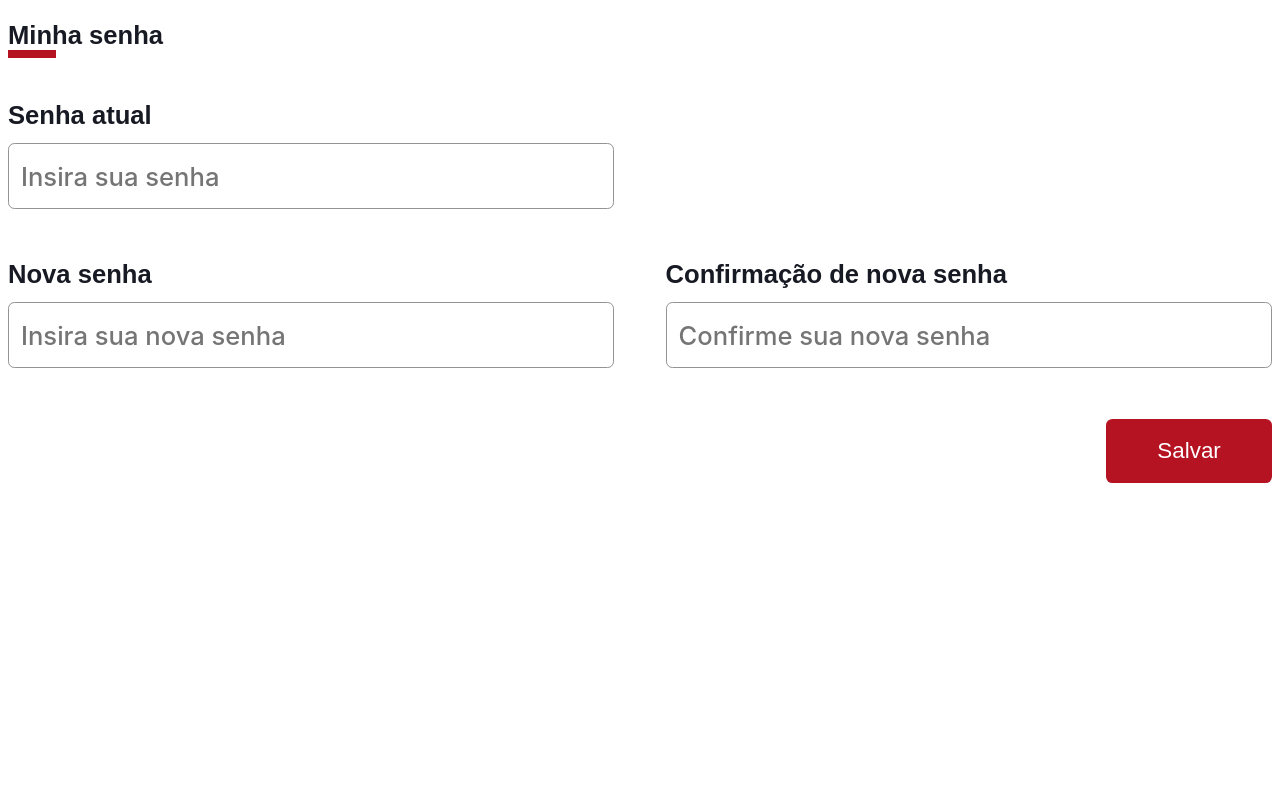
Test case: <MyPasswordForm /> › should display matching error when data is invalid
The width and height of the screenshot is (1280, 800).
In the password field labelled "Senha atual": {"x": 311, "y": 176} [21,148,601,204], type "12345"
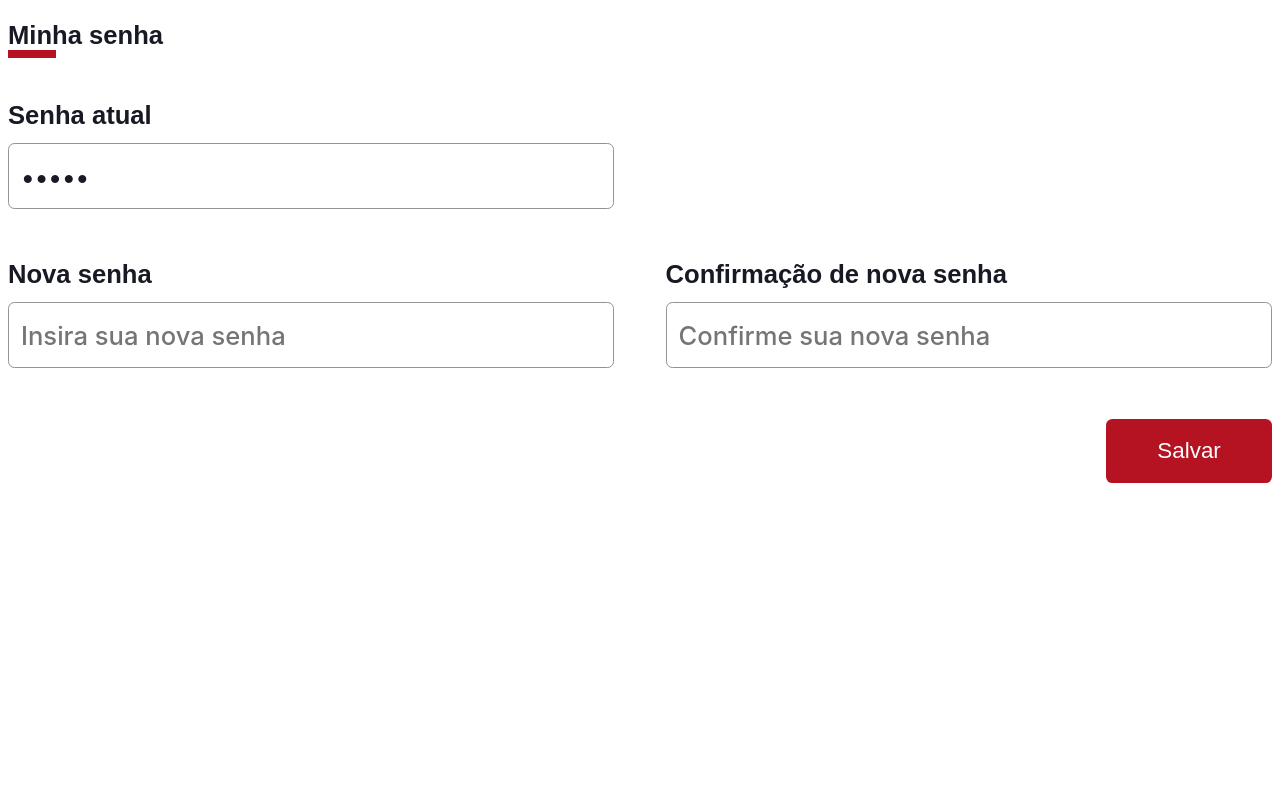
In the password field labelled "Nova senha": {"x": 311, "y": 335} [21,307,601,364], type "123456789"
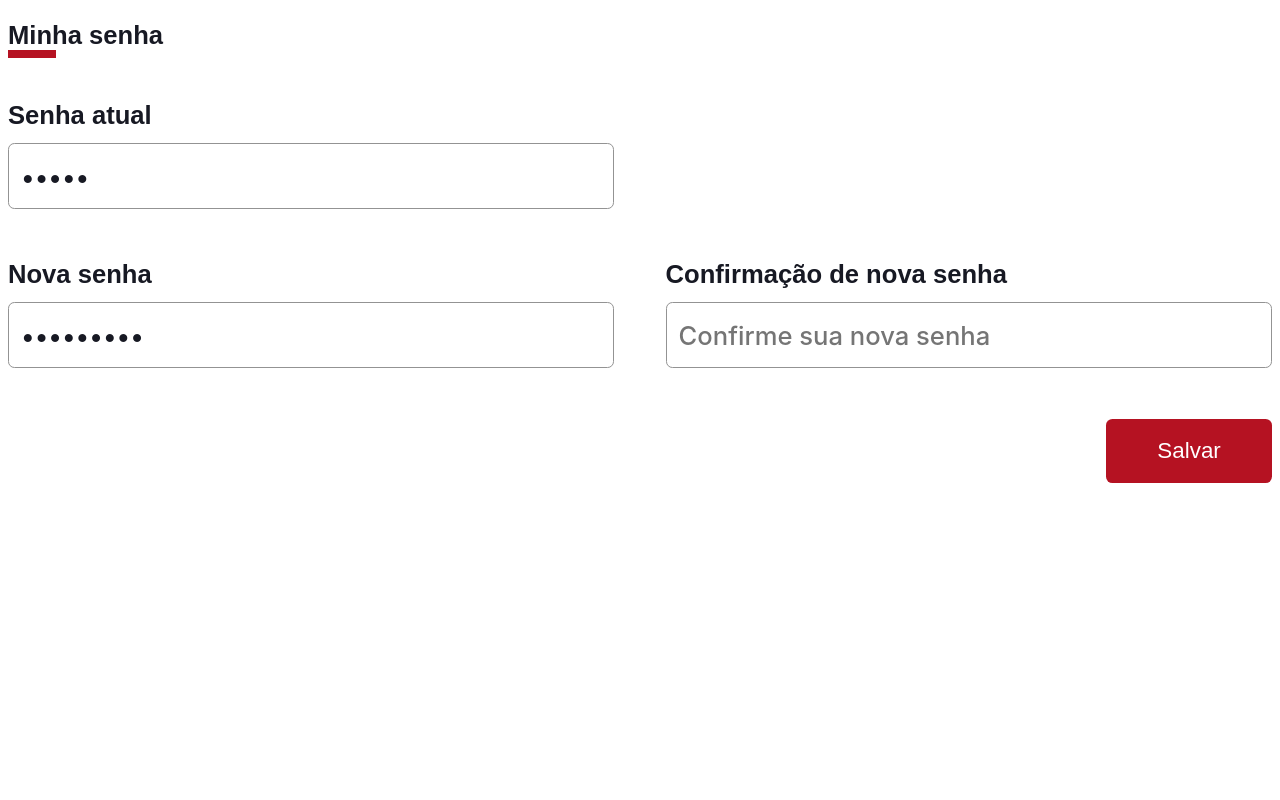
In the password field labelled "Confirmação de nova senha": {"x": 969, "y": 335} [679,307,1259,364], type "0123456789"
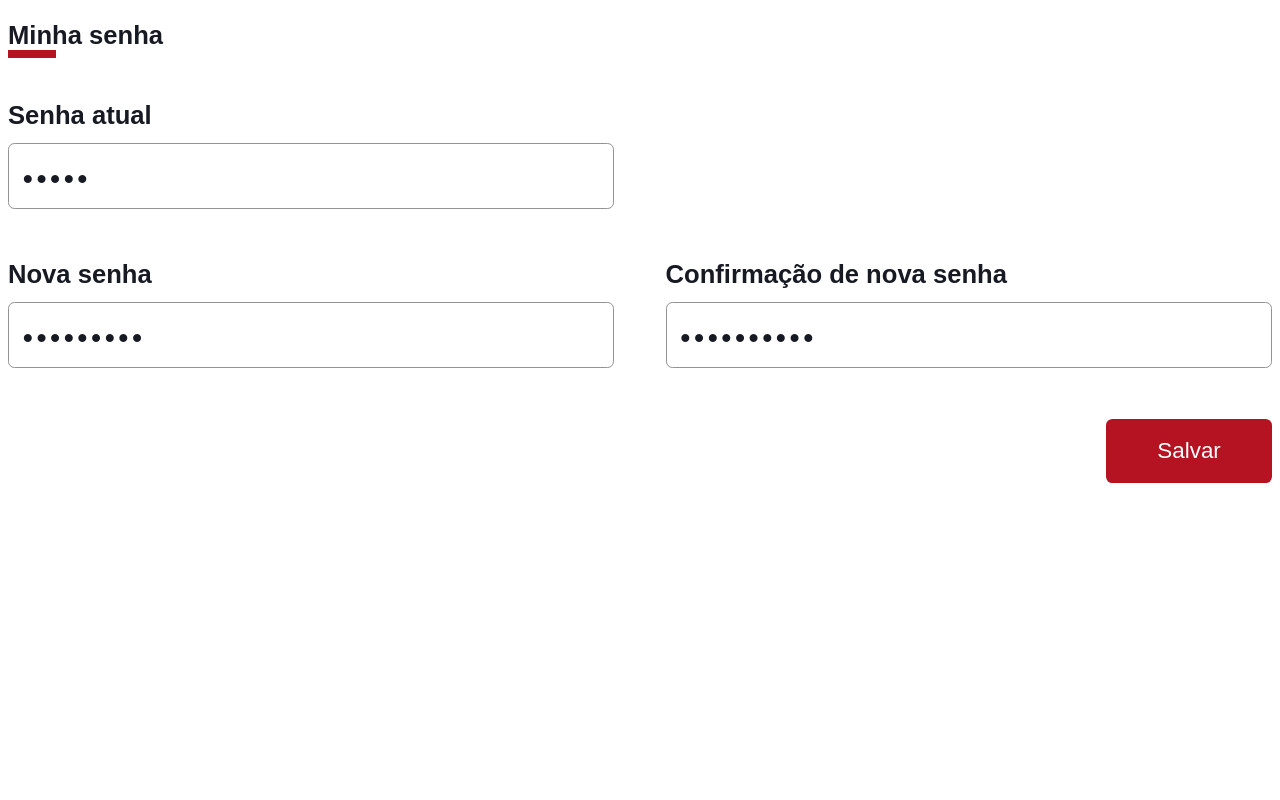
Submit the form from the button "Salvar", box [1106,419,1272,483]
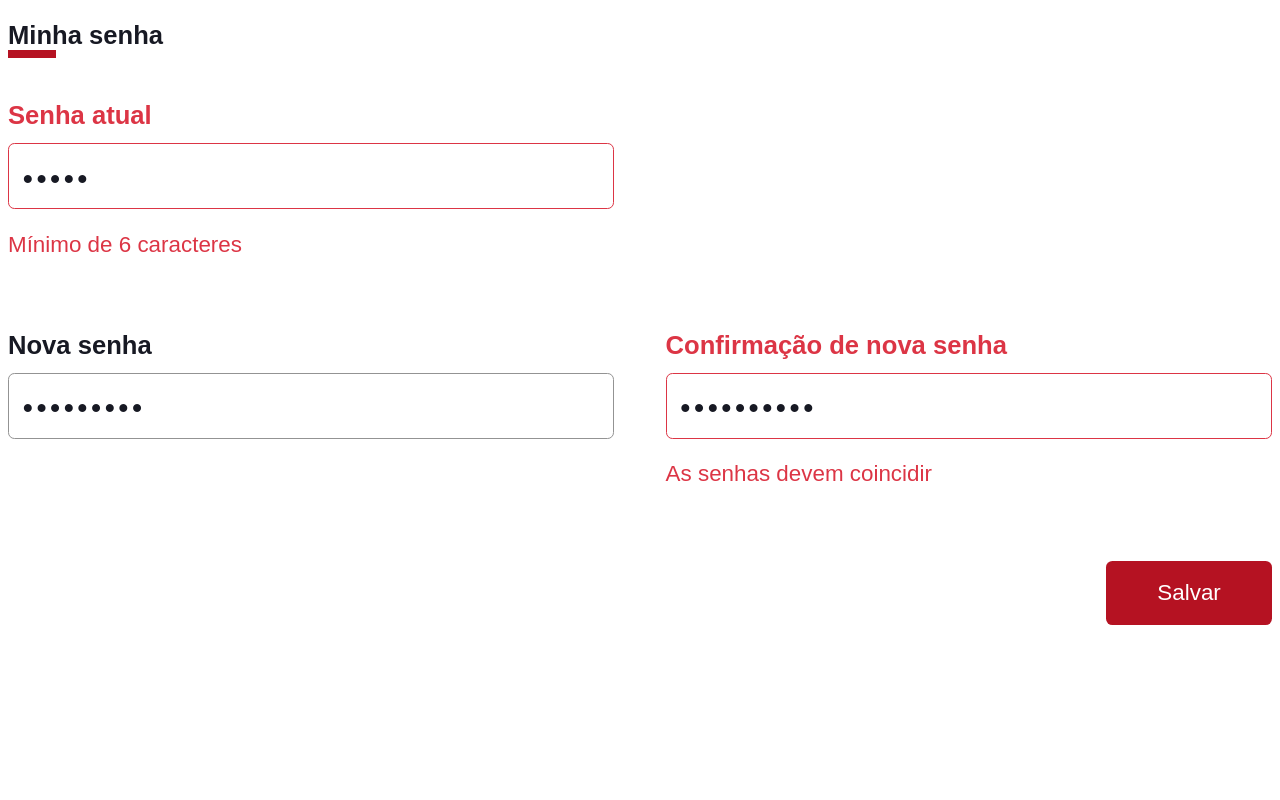
expect the number of messages is 2: met, box [8,232,242,257]; [666,461,932,486]
